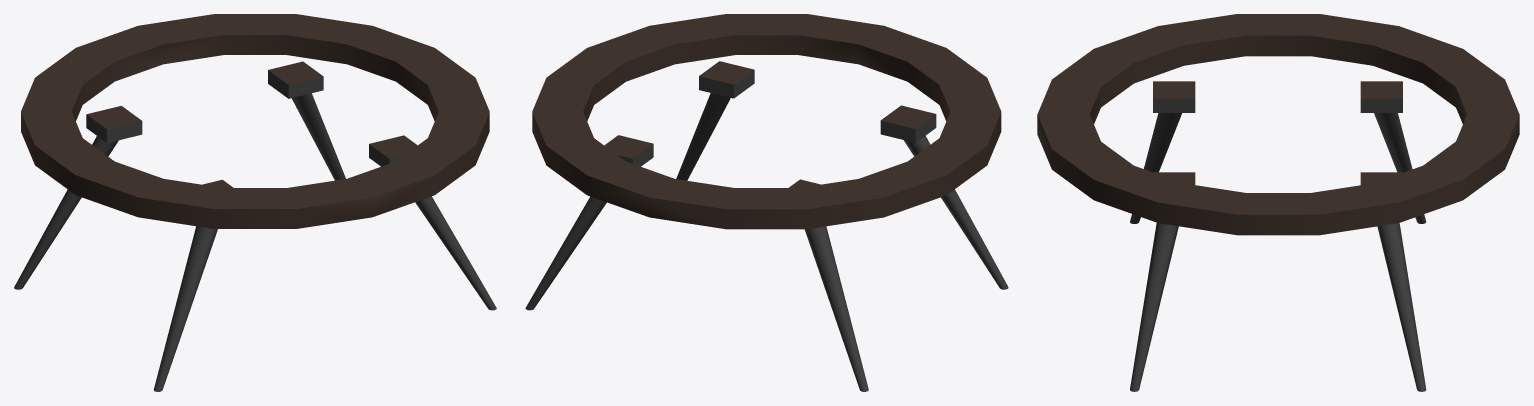
Rendered from CTable_3.fbx.
3 renders of one model, left to right at view 1: azimuth 30°, elevation 25°; view 2: azimuth 150°, elevation 25°; view 3: azimuth 270°, elevation 25°, orthographic. The views are drawn at different scales.
Visible parts, largest first — view 1: CTable_3; view 2: CTable_3; view 3: CTable_3.
Boxes of the visible parts, x1,y1,x2,y2 form: CTable_3: (14, 14, 496, 391); CTable_3: (525, 14, 1008, 391); CTable_3: (1037, 14, 1519, 391).
Bounding box in the file's own units: 119 × 52.86 × 120.
